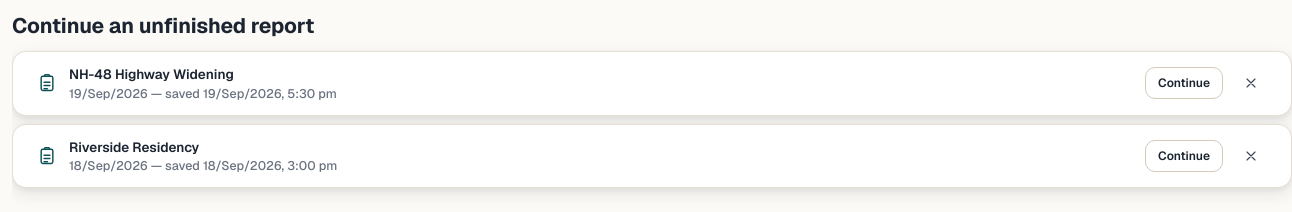
ResumeDraftsList › discards a draft after confirming, removing it from the list without touching the others
This screenshot has width=1292, height=212.
Click the button named "Discard draft for NH-48 Highway Widening". click: {"x": 1251, "y": 84}
box: [1235, 68, 1267, 100]
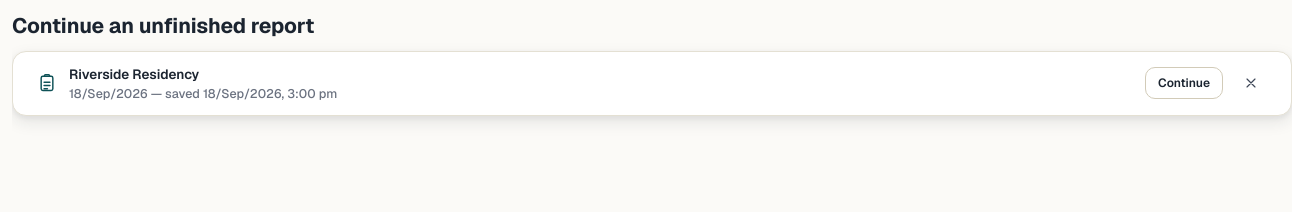
Expected: the text "Riverside Residency" is shown, [69, 65, 199, 83]
Now the text "NH-48 Highway Widening" is gone
